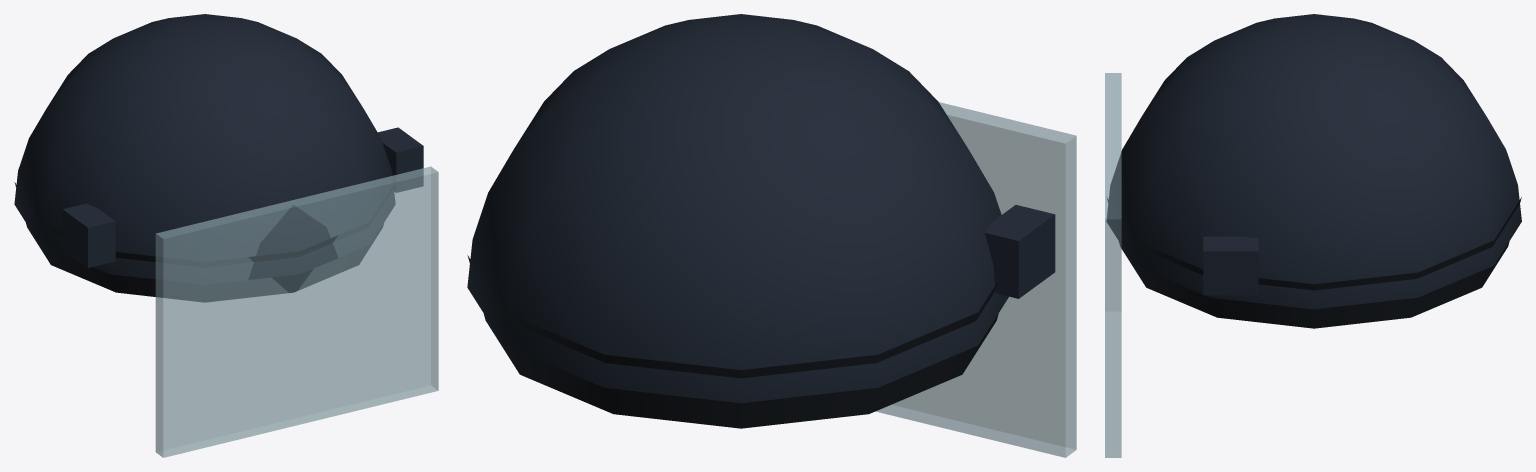
Rendered from riot_helmet.glb.
The picture shows the model from 3 angles, left to right: view 1: azimuth 30°, elevation 25°; view 2: azimuth 150°, elevation 25°; view 3: azimuth 270°, elevation 25°; orthographic projection. The views are drawn at different scales.
Parts seen in each view (by area): view 1: shell, visor, padded rim, visor hinge left, visor hinge right; view 2: shell, visor, padded rim, visor hinge left; view 3: shell, padded rim, visor, visor hinge right.
Boxes of the visible parts, x1,y1,x2,y2 form: shell: (14, 14, 395, 284); visor: (155, 166, 438, 457); padded rim: (14, 182, 393, 302); visor hinge left: (62, 203, 115, 267); visor hinge right: (378, 127, 423, 192); shell: (467, 14, 1008, 403); visor: (875, 102, 1076, 457); padded rim: (467, 255, 998, 428); visor hinge left: (984, 205, 1055, 298); shell: (1106, 14, 1521, 309); padded rim: (1107, 197, 1521, 328); visor: (1105, 73, 1121, 457); visor hinge right: (1203, 236, 1258, 295).
Size of the model in its own units: 0.305 by 0.28 by 0.301.
